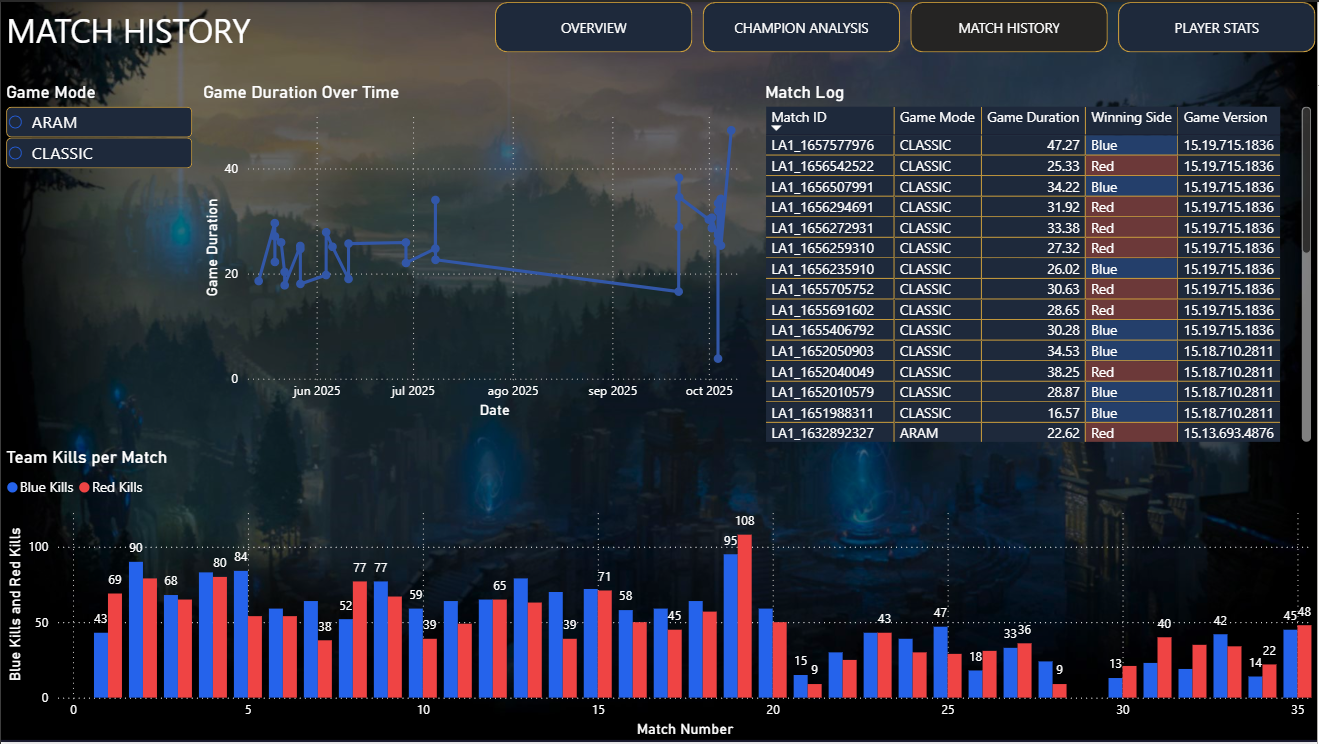

The page's visual inventory and layout, read from the dashboard file:
{"tool":"powerbi","page":{"name":"MATCH HISTORY","canvas":[1280,720],"ordinal":2},"visuals":[{"type":"lineChart","title":"Game Duration Over Time","fields":{"Y":["Sum(match_summary.game_duration_mins)"],"Category":["match_summary.game_start_ts"]},"box":[192,78.2,546.7,331.6],"z":0},{"type":"clusteredColumnChart","title":"Team Kills per Match","fields":{"Y":["Sum(match_summary.blue_kills)","Sum(match_summary.red_kills)"],"Category":["match_summary.match_number"]},"box":[0,432.9,1280,287.1],"z":1000},{"type":"tableEx","title":"Match Log","fields":{"Values":["match_summary.match_id","match_summary.game_mode","Sum(match_summary.game_duration_mins)","match_summary.winning_side","match_summary.game_version"]},"box":[738.7,78.2,541.3,354.7],"z":2000},{"type":"textbox","box":[0,0,299.6,77.8],"z":3000},{"type":"pageNavigator","box":[480,0,800,49.8],"z":4000},{"type":"listSlicer","fields":{"Values":["match_summary.game_mode"]},"box":[0,77.8,191.6,143],"z":5000}]}

Visuals, with their boxes in screenshot pixels (x1, y1, x2, y2), scaled from the page's 1280x720 canvas onto the 1319x744 screenshot:
"Game Duration Over Time" lineChart: pyautogui.locateOnScreen(198, 81, 761, 423)
"Team Kills per Match" clusteredColumnChart: pyautogui.locateOnScreen(0, 447, 1318, 743)
"Match Log" tableEx: pyautogui.locateOnScreen(761, 81, 1318, 447)
textbox: pyautogui.locateOnScreen(0, 0, 309, 80)
pageNavigator: pyautogui.locateOnScreen(495, 0, 1318, 51)
listSlicer - match_summary.game_mode: pyautogui.locateOnScreen(0, 80, 197, 228)
